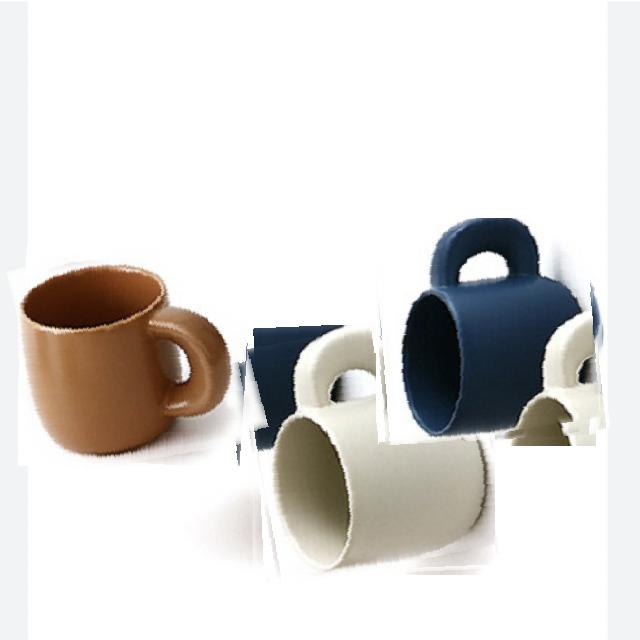recyclable: (242, 325, 495, 579), (18, 234, 254, 466), (376, 218, 606, 446)
